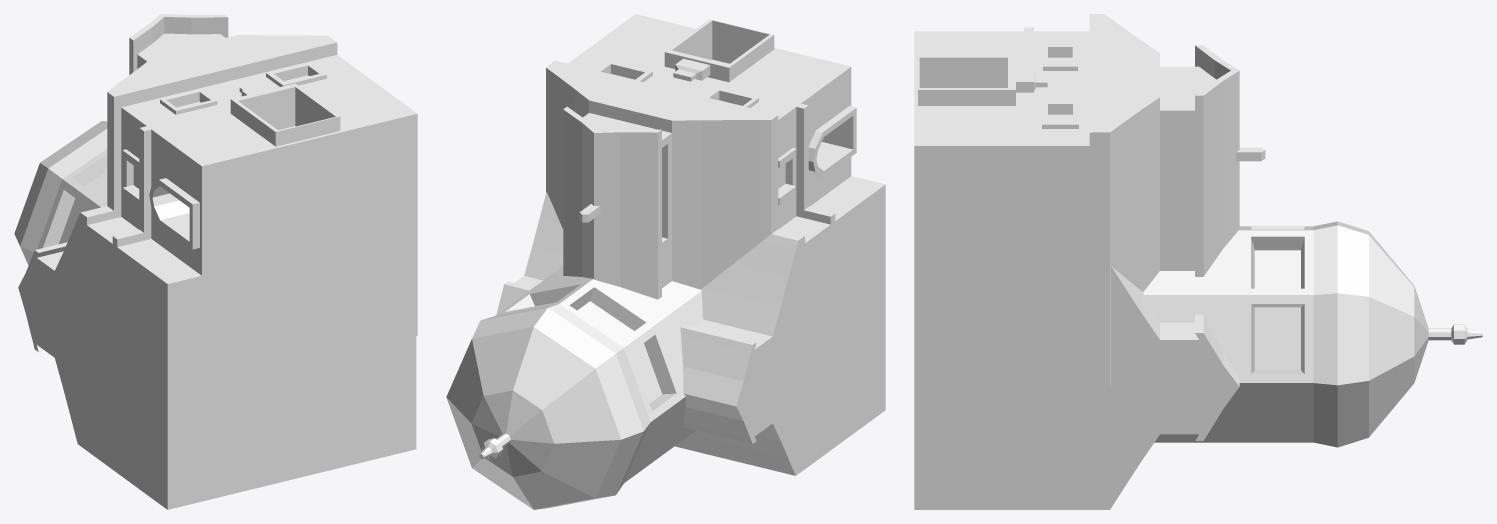
Rendered from venice_building_22.fbx.
3 views of the same model, side by side, from view 1: azimuth 30°, elevation 25°; view 2: azimuth 150°, elevation 25°; view 3: azimuth 270°, elevation 25° (orthographic). The views are drawn at different scales.
Visible parts, largest first — view 1: Cube.365; view 2: Cube.365; view 3: Cube.365.
Part boxes in pixels (<box>): Cube.365: <box>14,14,417,509</box>; Cube.365: <box>446,14,885,509</box>; Cube.365: <box>914,14,1482,509</box>.
Bounding box in the file's own units: 1715 × 2307 × 3103.
